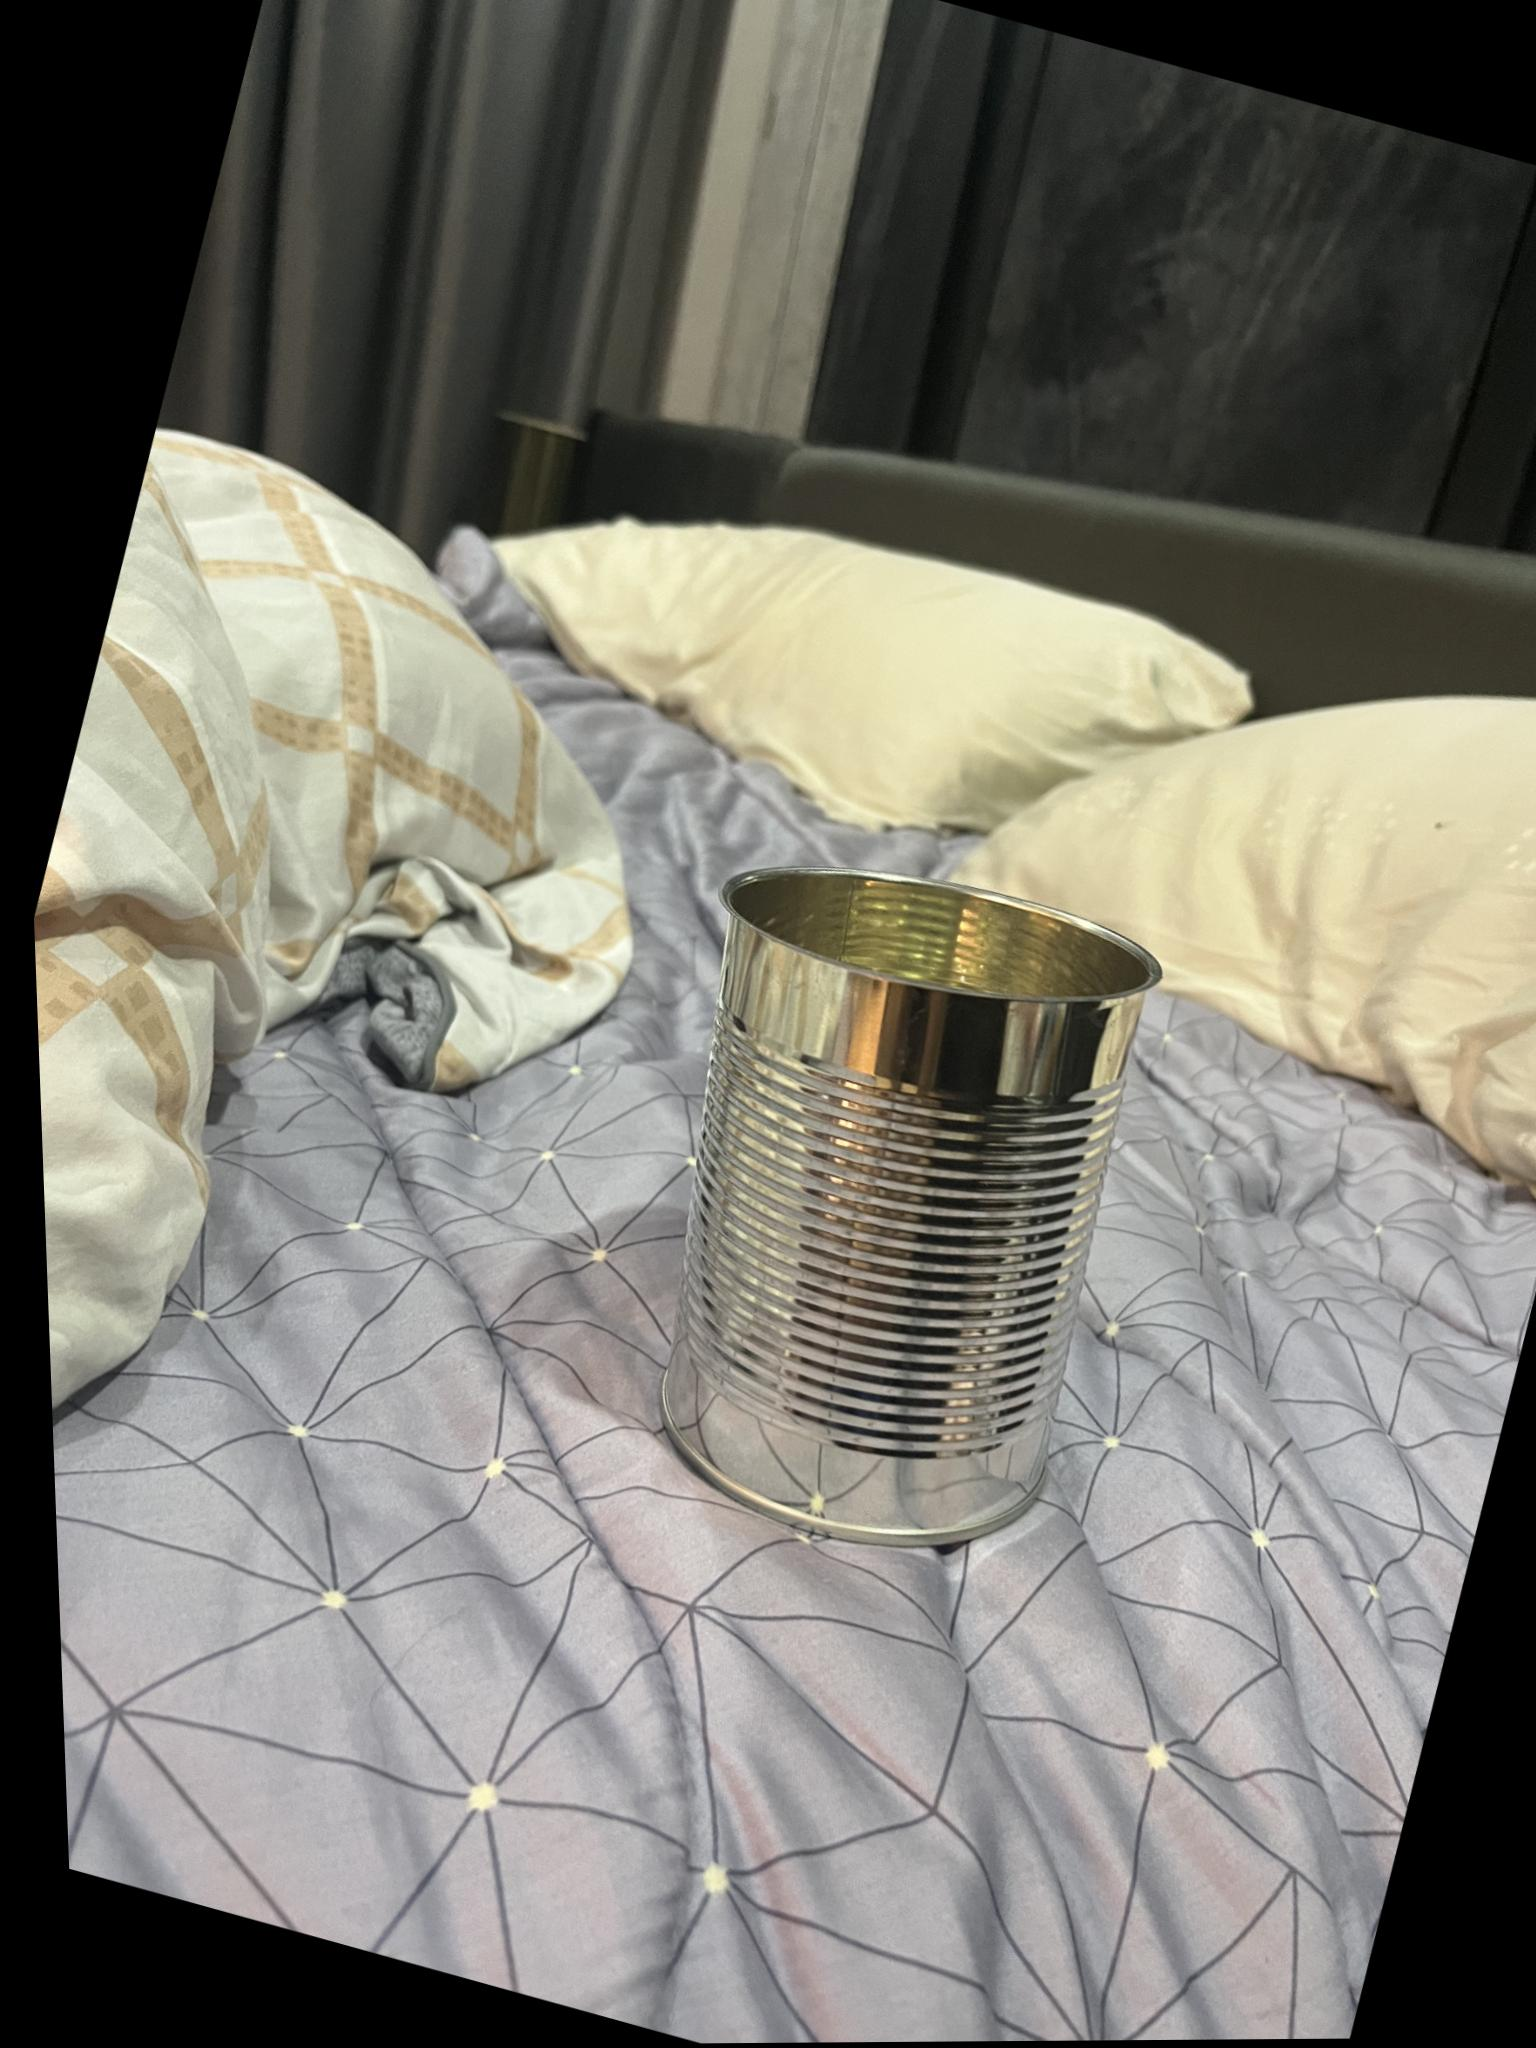metal: (663, 869, 1158, 1543)
